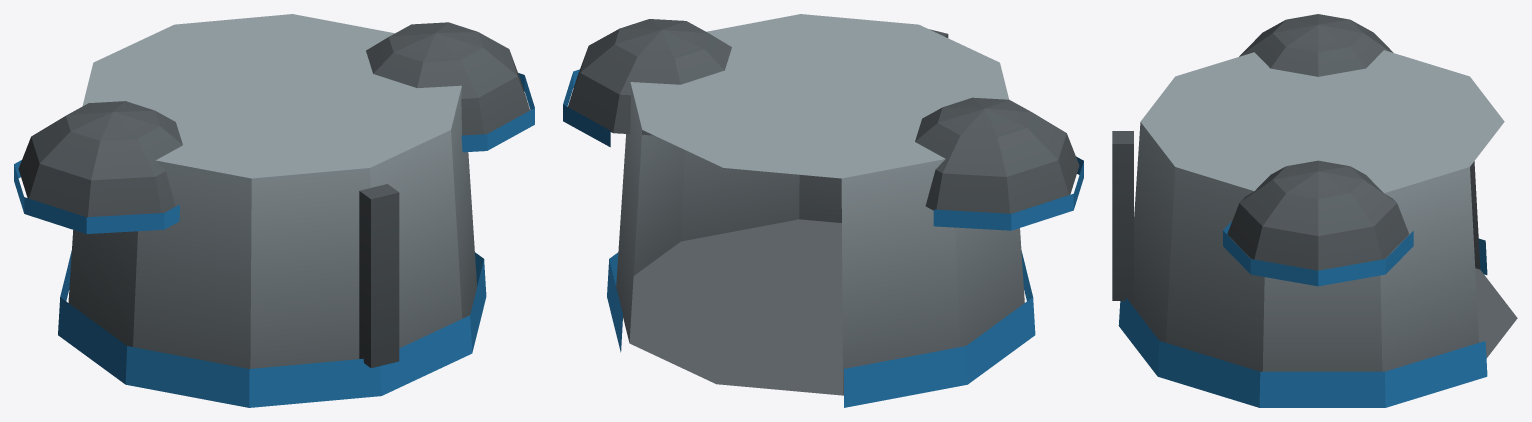
The model's file is engineer_guard_chest_t2.glb.
The picture shows the model from 3 angles, left to right: view 1: azimuth 30°, elevation 25°; view 2: azimuth 150°, elevation 25°; view 3: azimuth 270°, elevation 25°; orthographic projection. The views are drawn at different scales.
Parts seen in each view (by area): view 1: engineer_guard_chest_t2__chest; view 2: engineer_guard_chest_t2__chest; view 3: engineer_guard_chest_t2__chest.
Part boxes in pixels (x1,y1,x2,y2): engineer_guard_chest_t2__chest: [14, 14, 534, 407]; engineer_guard_chest_t2__chest: [563, 14, 1083, 407]; engineer_guard_chest_t2__chest: [1112, 14, 1517, 407].
Size of the model in its own units: 1.24 by 0.58 by 0.935.
Materials: 1 (1 with a texture image).
